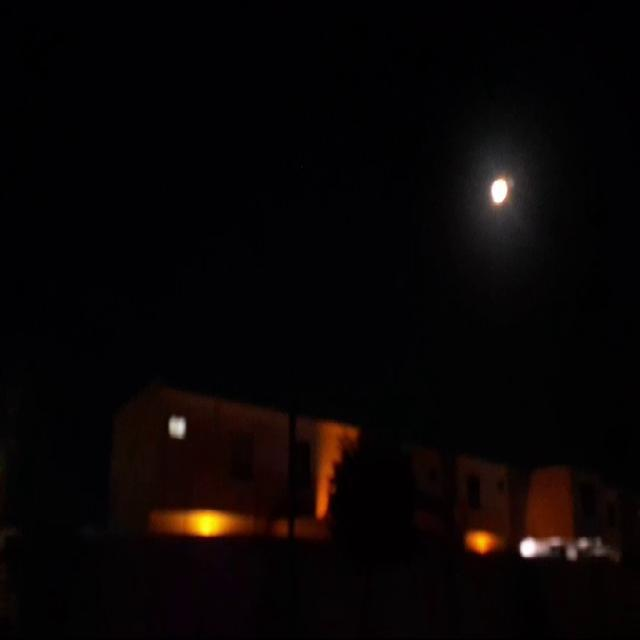moon: (476, 172, 498, 206)
